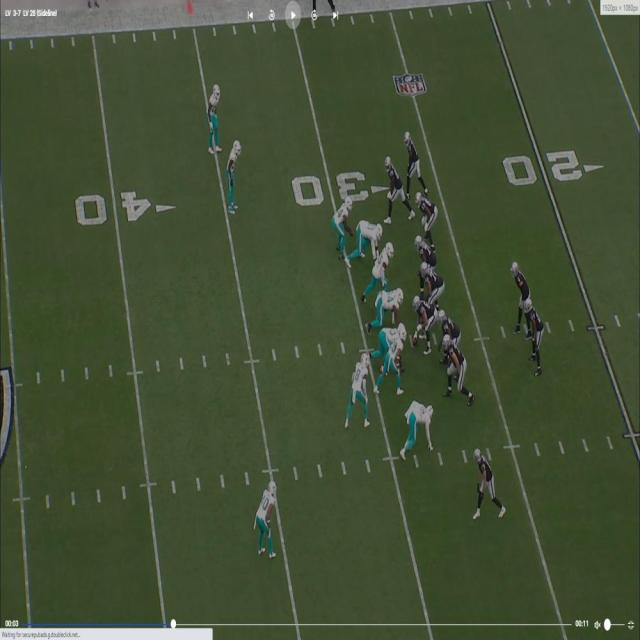center: (410, 291, 432, 345)
db: (253, 476, 277, 555), (380, 328, 406, 395), (224, 138, 241, 212), (352, 350, 368, 410), (208, 76, 220, 150)
lb: (370, 242, 394, 291), (336, 196, 353, 239)
qb: (510, 258, 528, 318)
skill: (473, 448, 499, 518), (526, 298, 544, 374), (386, 157, 408, 219), (404, 128, 422, 184), (419, 193, 438, 236)
